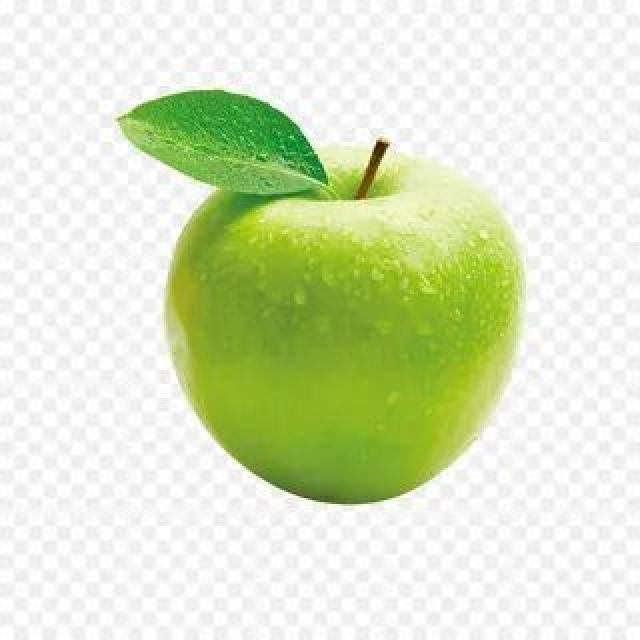Rotten: (157, 165, 530, 508)
